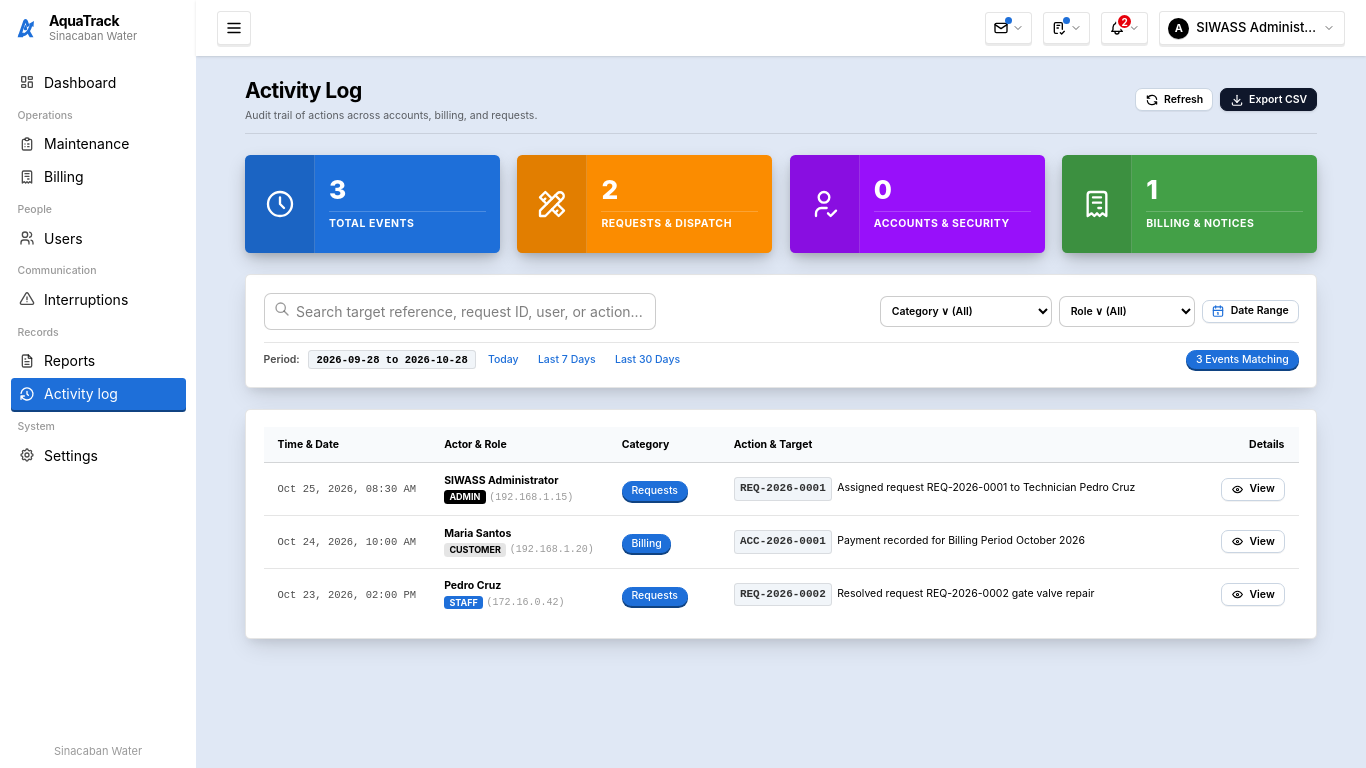
Scenario: AdminActivityLogView (Section 13 Audit Trail) › filters audit records by category dropdown
The image size is (1366, 768).
Select "Billing & Payments" in the dropdown named "filter by category" at [966, 311], box [880, 296, 1052, 326]
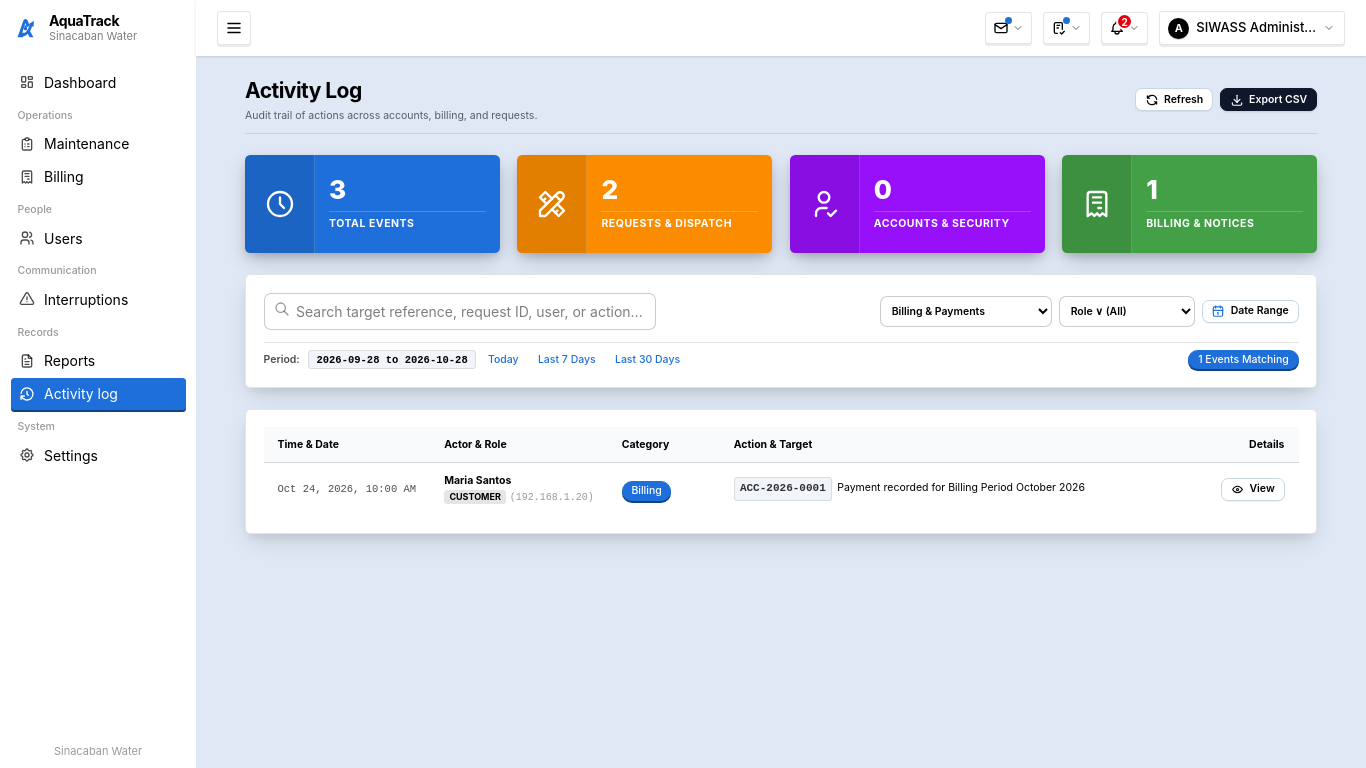
Expected: the text "ACC-2026-0001" is shown, [734, 477, 832, 501]
Expected: the text "REQ-2026-0001" is gone
Expected: the text "REQ-2026-0002" is gone
